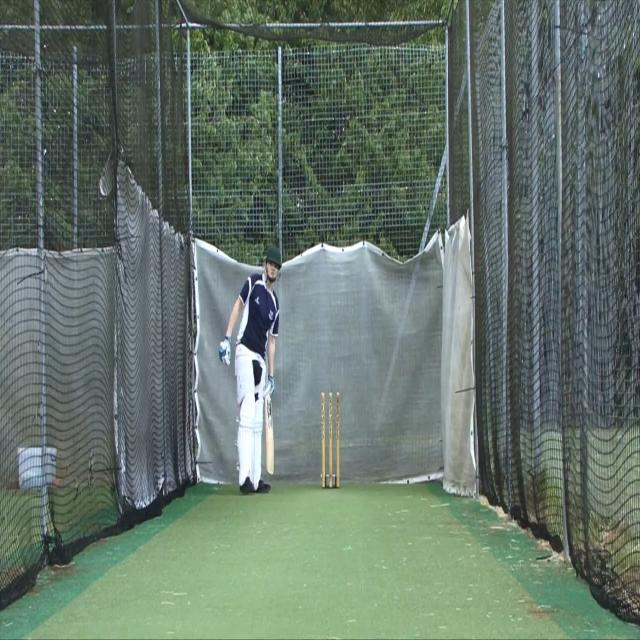batsman: (217, 243, 283, 498)
